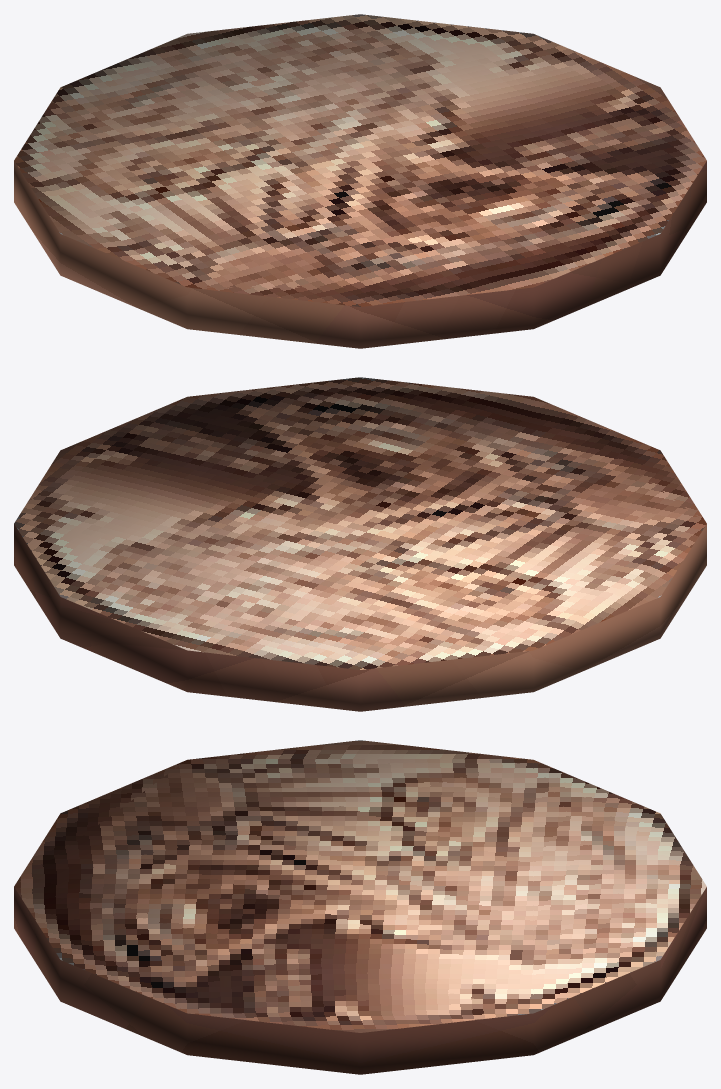
The model's file is WorldItem-HCMoney_CopperCoin.fbx.
3 views of the same model, one above another, from view 1: azimuth 30°, elevation 25°; view 2: azimuth 150°, elevation 25°; view 3: azimuth 270°, elevation 25° (orthographic).
Visible parts, largest first — view 1: Copper Coin; view 2: Copper Coin; view 3: Copper Coin.
Boxes of the visible parts, bbox=[...] form: Copper Coin: bbox=[14, 14, 706, 348]; Copper Coin: bbox=[14, 377, 706, 711]; Copper Coin: bbox=[14, 740, 706, 1074].
Size of the model in its own units: 0.0335 by 0.00222 by 0.0335.
